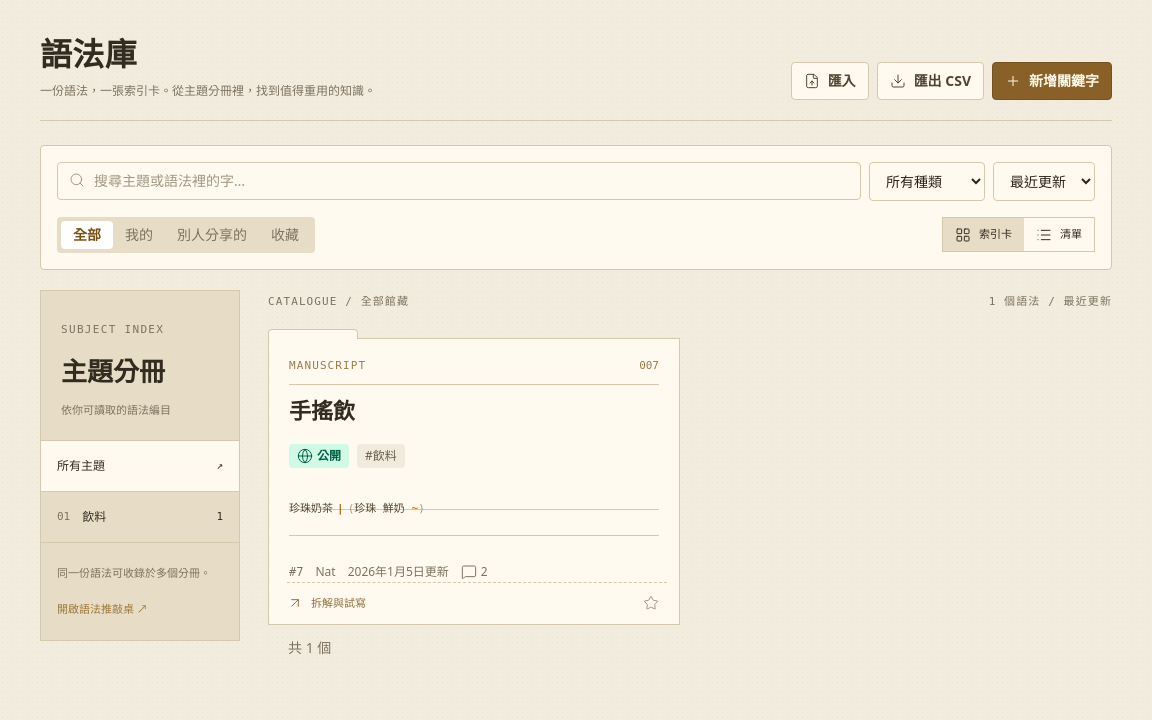
換範圍會重新查詢，收藏會馬上反映在畫面上
Check: the link "手搖飲" is shown, box [289,399,355,424]
What coordinates should you click on to do the following:
click the tab "收藏"
I would click on:
 (285, 234)
Its box is [259,220,311,248].
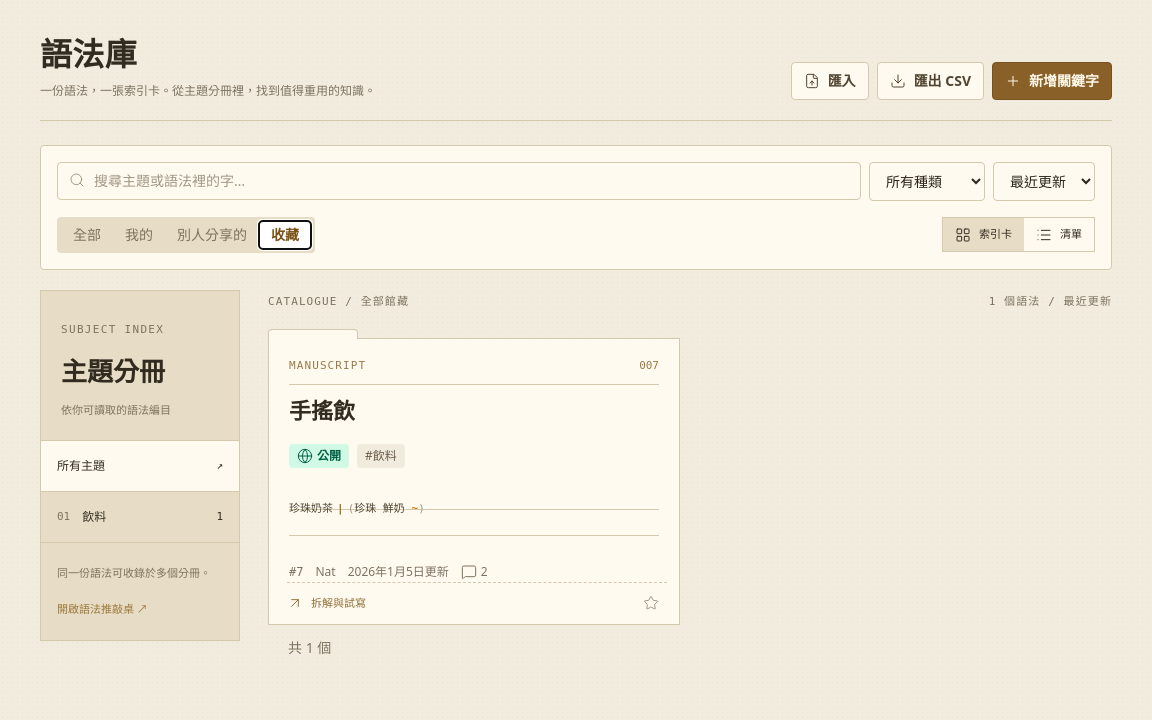
What coordinates should you click on to do the following:
click the button named "收藏"
I would click on:
 (651, 603)
Its box is [635,587,667,619].
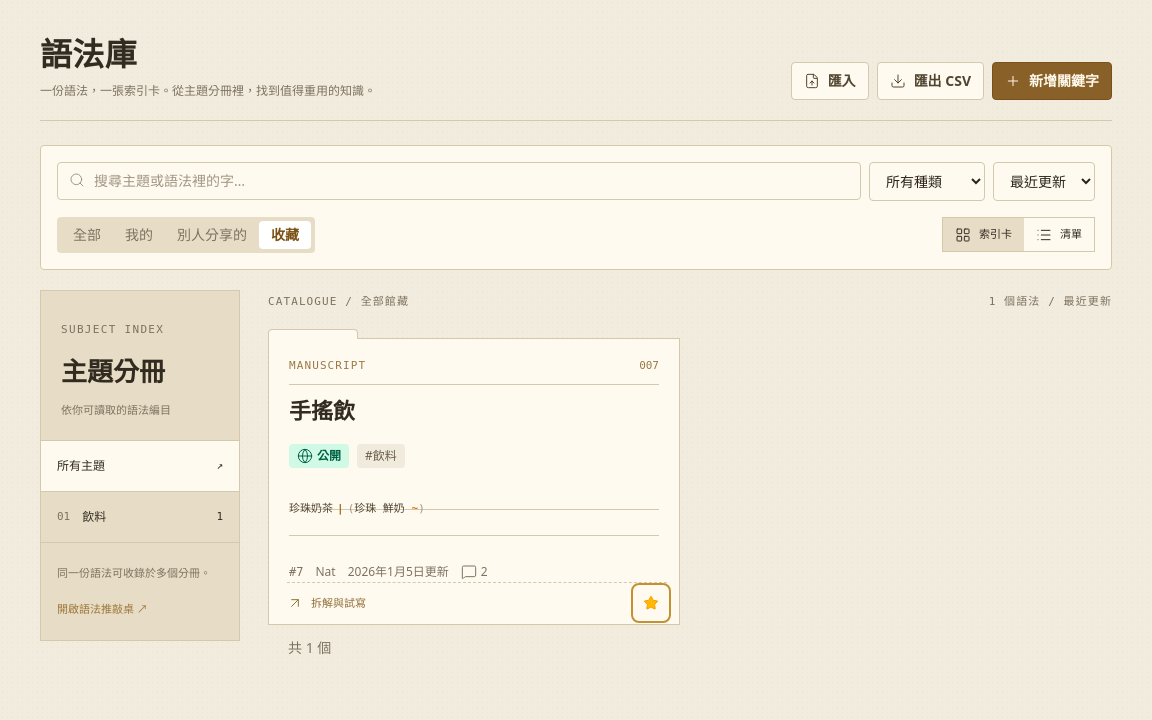
Check: the button named "取消收藏" is shown, box [635,587,667,619]
